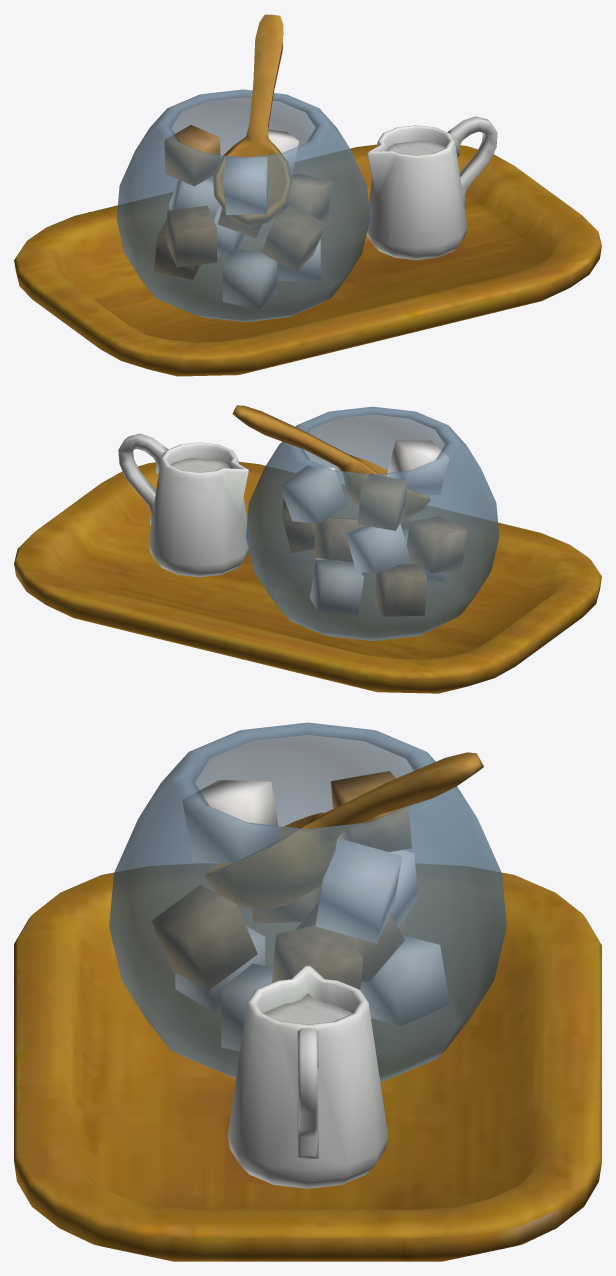
3 renders of one model, top to bottom at view 1: azimuth 30°, elevation 25°; view 2: azimuth 150°, elevation 25°; view 3: azimuth 270°, elevation 25°, orthographic. The views are drawn at different scales.
Bounding box in the file's own units: 7.71 × 3.36 × 5.15.
Materials: 3 (2 with a texture image).
